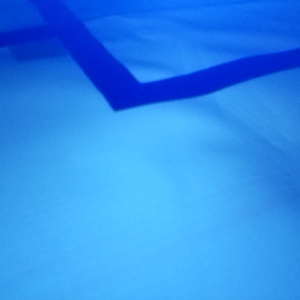bottom_left: (9, 30, 88, 62)
